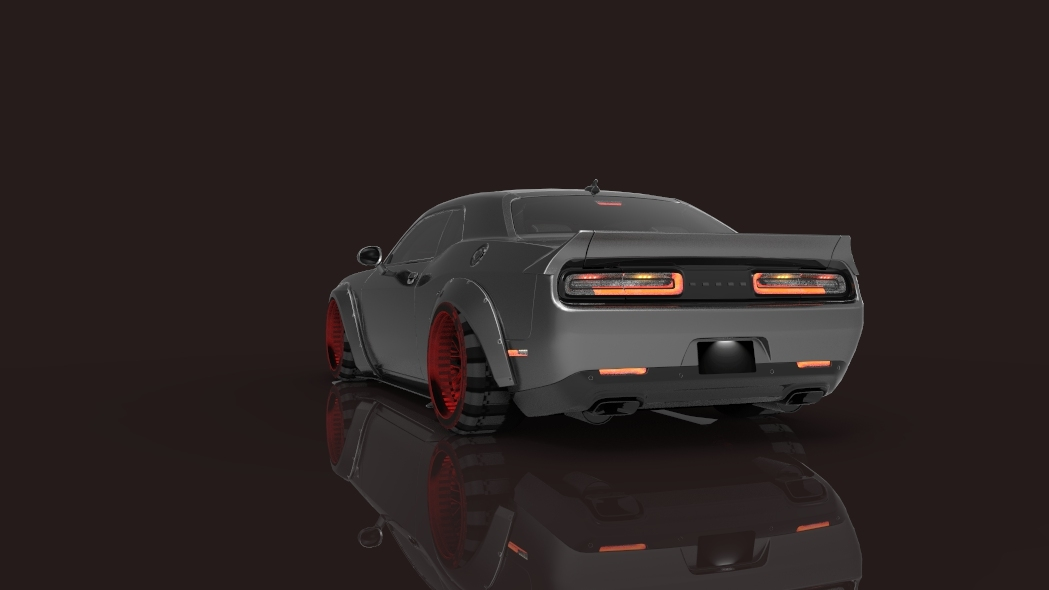hatch: (470, 244, 490, 266)
